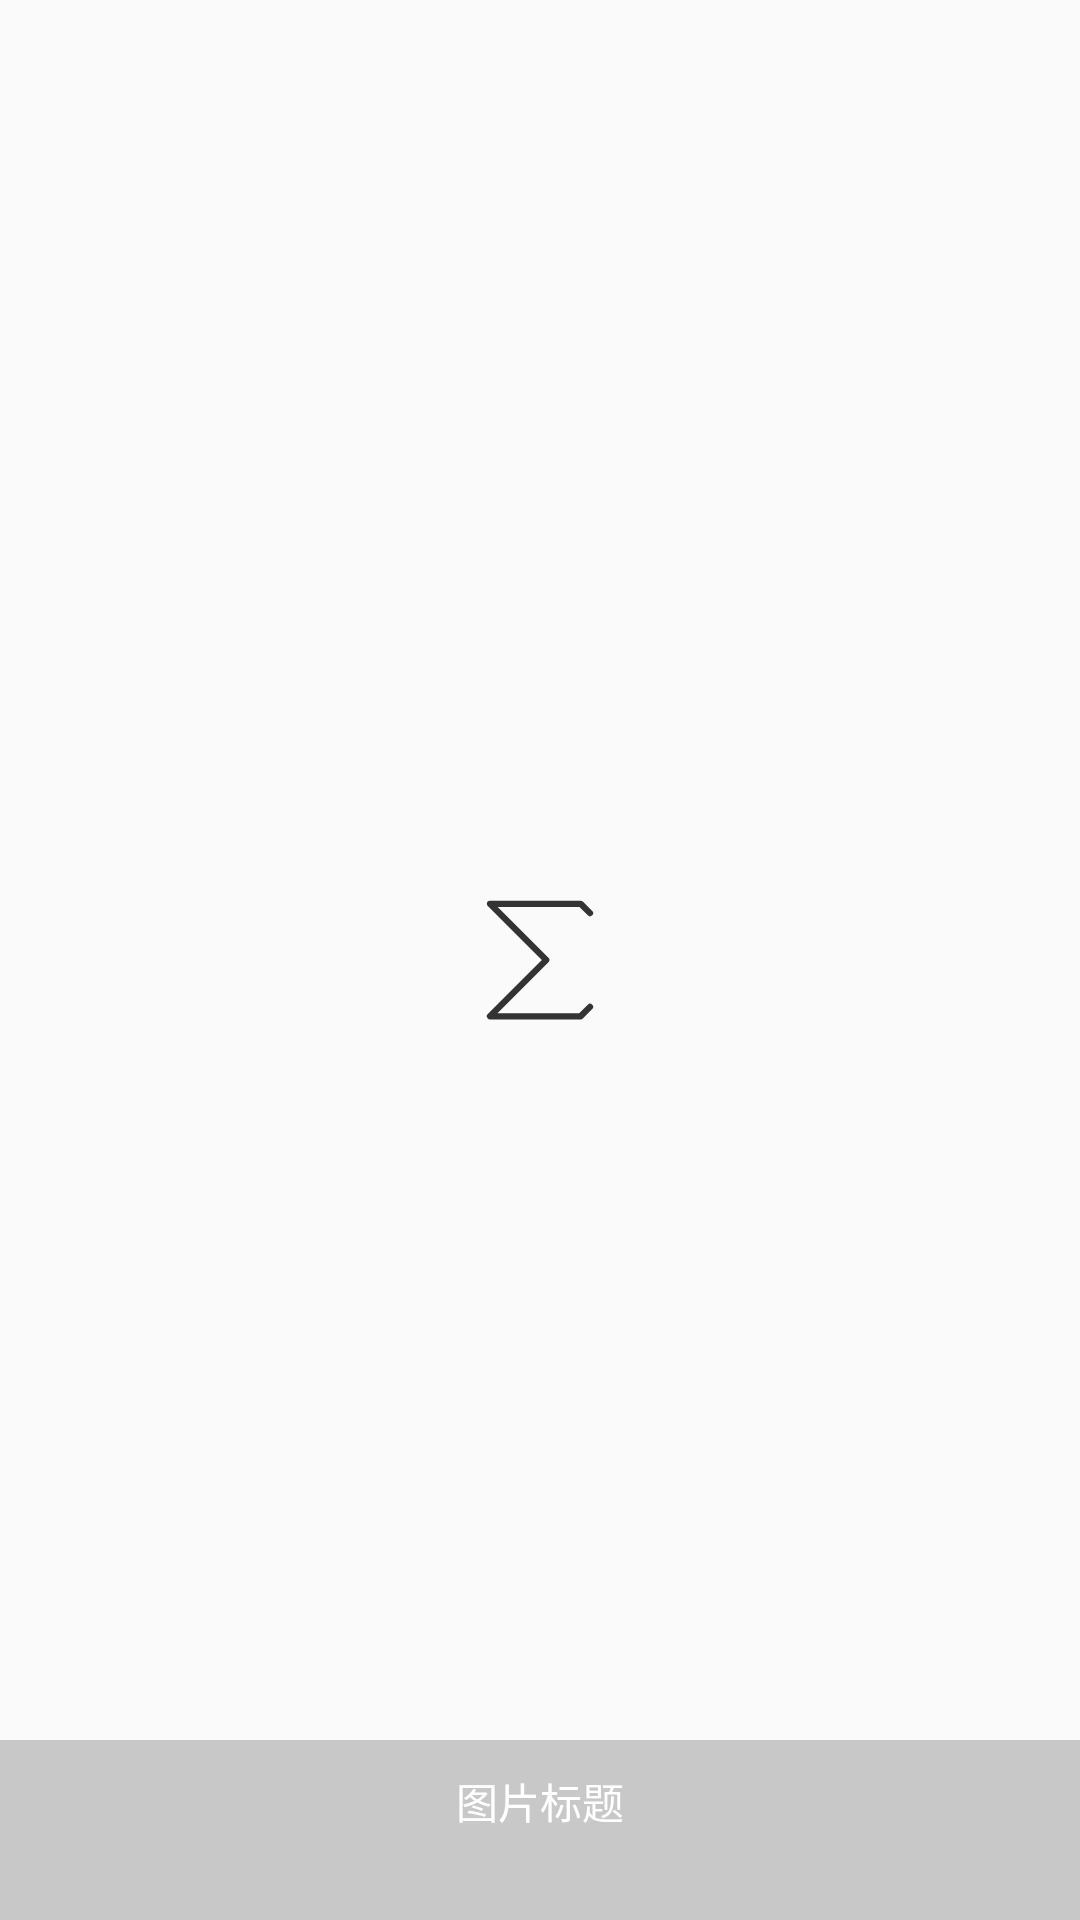

Icon click points for this 1080w x 1920h phone screenshot, format (x=x, y=y):
formula: (x=540, y=960)
